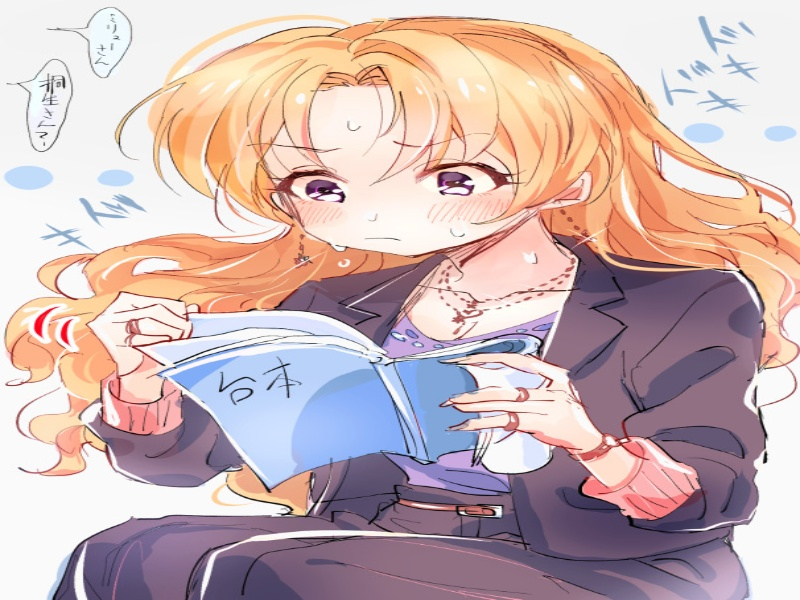book: (183, 308, 564, 484)
person: (132, 11, 612, 270)
